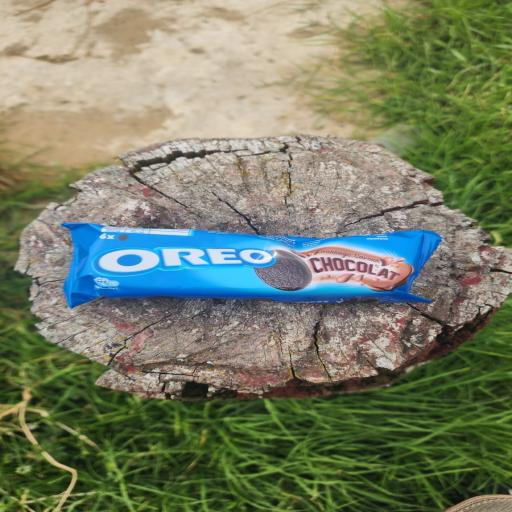oreo: (46, 192, 482, 344)
